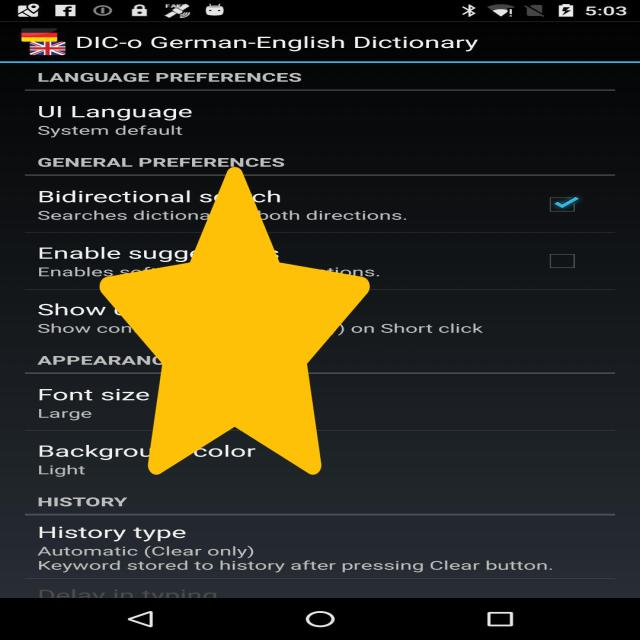forced continuity: (100, 167, 370, 475)
